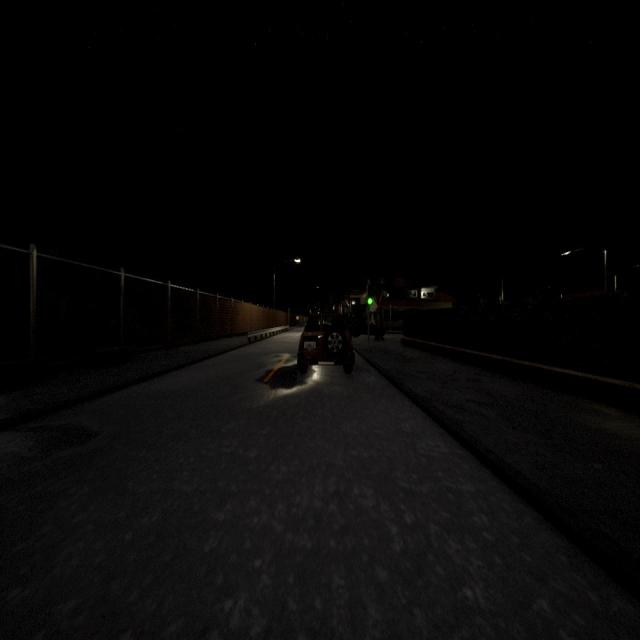Traffic_Signs: (296, 316, 299, 320)
Vehicle: (297, 313, 355, 374), (354, 317, 388, 338)
traffic_light: (367, 283, 373, 306)
